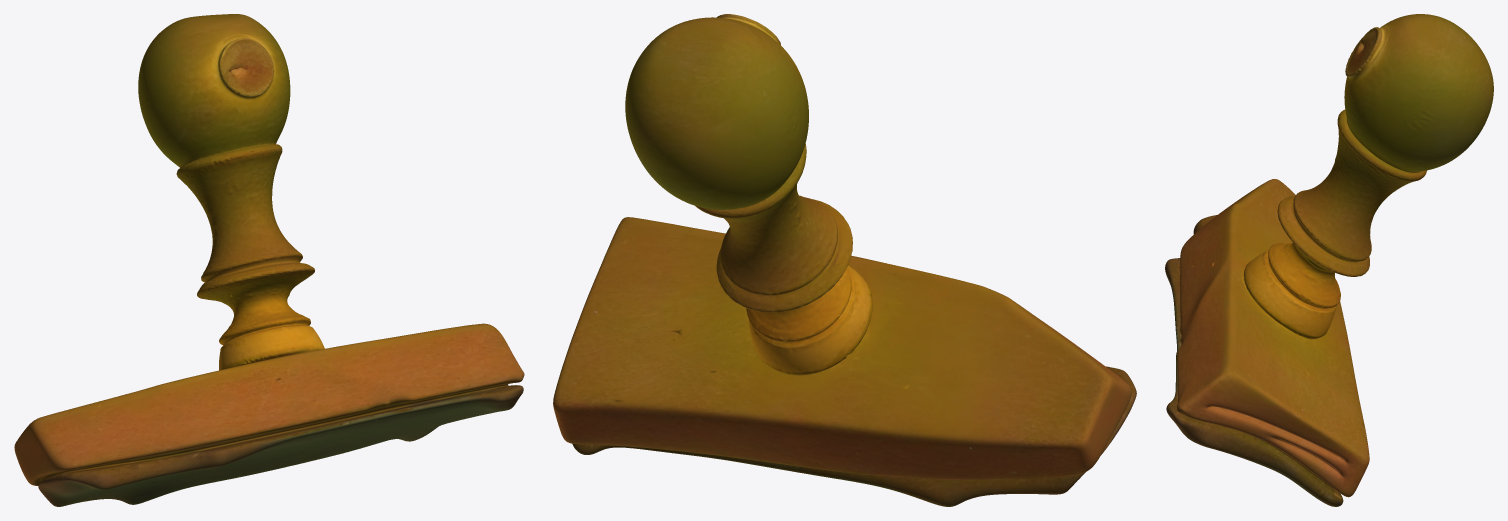
3 renders of one model, left to right at view 1: azimuth 30°, elevation 25°; view 2: azimuth 150°, elevation 25°; view 3: azimuth 270°, elevation 25°, orthographic. The views are drawn at different scales.
Parts seen in each view (by area): view 1: node_0; view 2: node_0; view 3: node_0.
Part boxes in pixels (x1,y1,x2,y2): node_0: (14,14,524,506); node_0: (553,14,1136,506); node_0: (1165,14,1493,506).
Bounding box in the file's own units: 0.9503 × 0.871 × 0.6312.
1 material, 1 textured.
